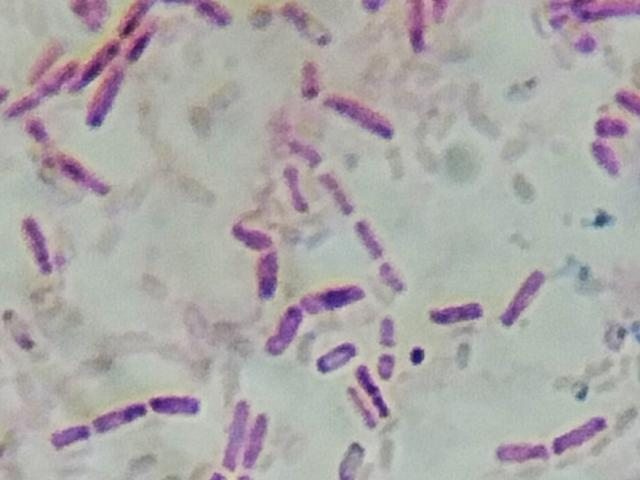E. coli: (328, 90, 398, 139), (499, 266, 552, 326), (551, 409, 608, 455), (354, 355, 393, 421), (295, 280, 358, 319), (55, 147, 100, 197), (280, 0, 332, 43), (91, 390, 144, 432), (23, 213, 58, 270), (145, 387, 201, 422), (268, 305, 304, 359), (86, 83, 129, 128), (431, 297, 489, 329), (222, 399, 249, 467), (342, 379, 370, 438), (81, 37, 126, 73), (495, 436, 544, 466), (353, 216, 389, 256), (323, 170, 354, 216), (335, 436, 367, 480), (376, 262, 410, 303), (249, 405, 269, 471), (33, 59, 74, 90), (235, 212, 271, 247), (292, 60, 322, 102), (260, 249, 286, 297), (313, 340, 351, 371), (591, 140, 623, 174), (48, 422, 86, 449), (282, 165, 306, 207), (613, 81, 640, 112), (431, 0, 456, 33), (29, 113, 49, 154), (592, 115, 626, 139), (8, 90, 34, 121), (373, 312, 395, 343), (375, 355, 393, 379)
